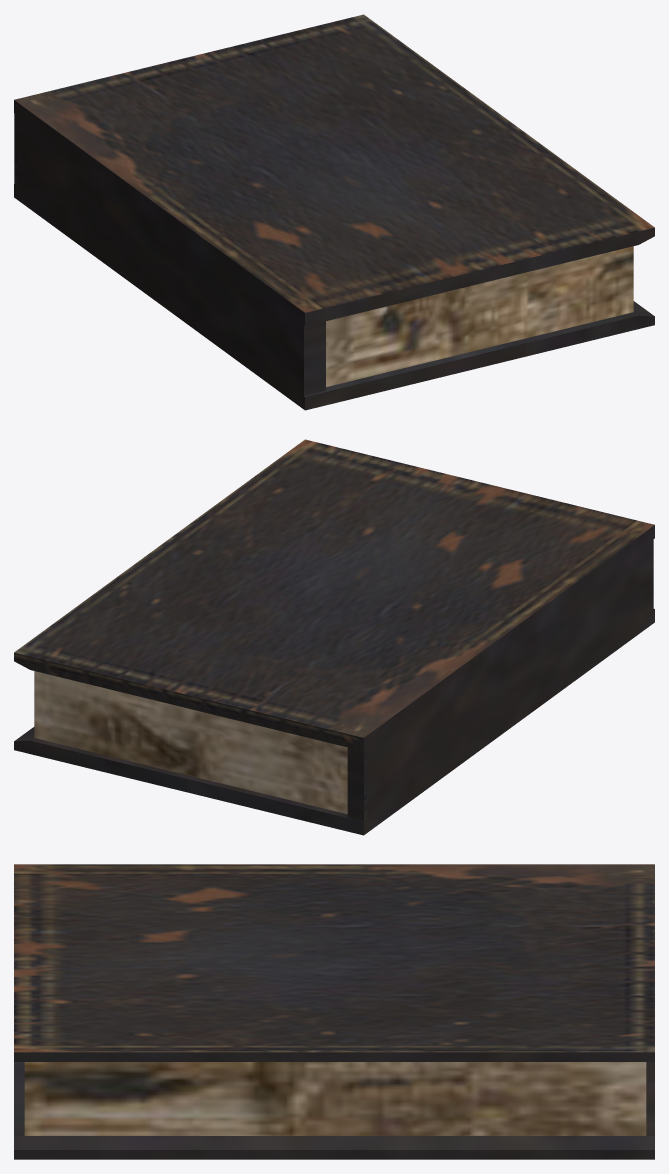
Rendered from book2.fbx.
3 views of the same model, one above another, from view 1: azimuth 30°, elevation 25°; view 2: azimuth 150°, elevation 25°; view 3: azimuth 270°, elevation 25° (orthographic). The views are drawn at different scales.
Visible parts, largest first — view 1: Cube.019; view 2: Cube.019; view 3: Cube.019.
Part boxes in pixels (left/top/right/bottom): Cube.019: left=14, top=14, right=654, bottom=410; Cube.019: left=14, top=439, right=654, bottom=835; Cube.019: left=14, top=864, right=654, bottom=1159.
Bounding box in the file's own units: 75.92 × 20.23 × 109.
